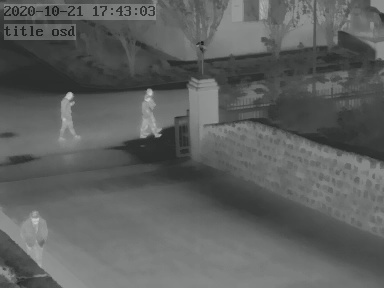person: (18, 206, 48, 275), (138, 86, 159, 137), (57, 89, 77, 140)
